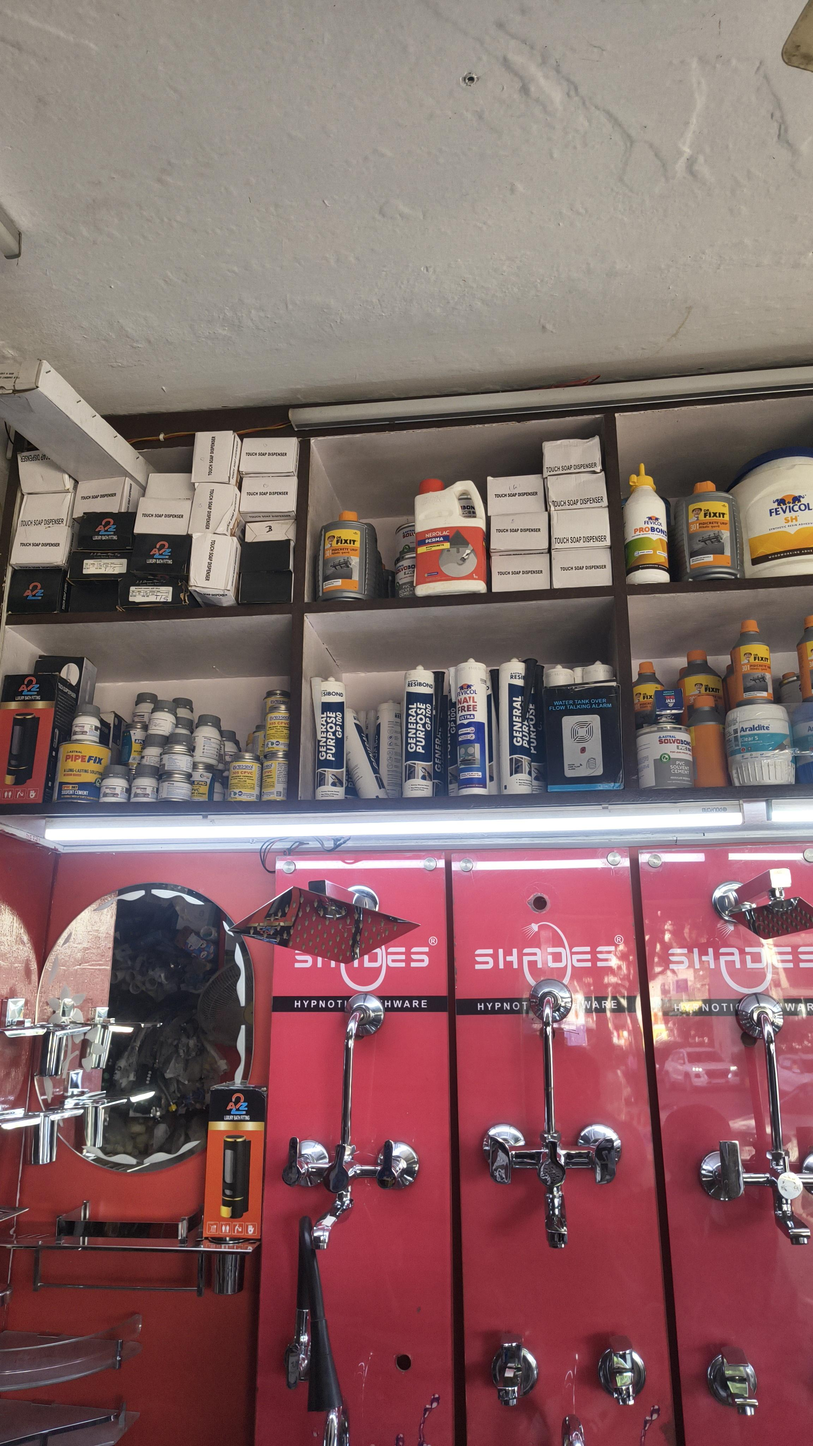RESIBOND_GENERAL PURPOSE GP 100: (499, 659, 538, 794), (312, 678, 346, 800), (403, 668, 434, 797), (346, 709, 387, 799), (377, 700, 402, 798), (526, 659, 544, 792), (433, 670, 448, 795), (446, 668, 458, 795)
